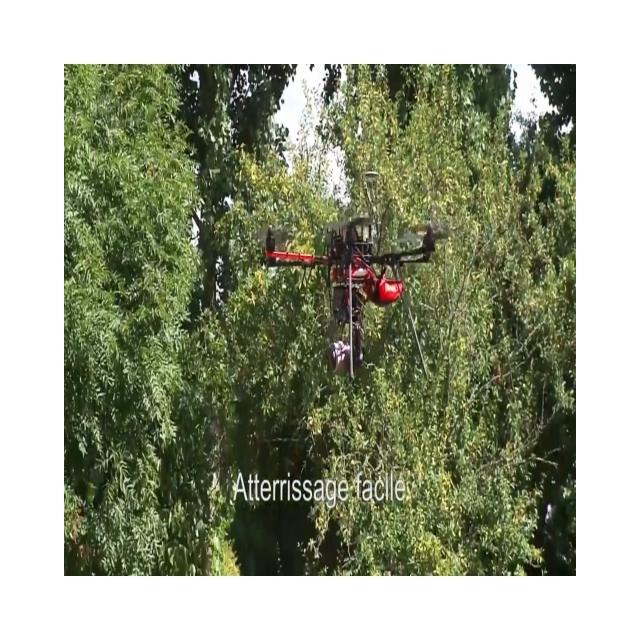drone: (254, 212, 451, 380)
